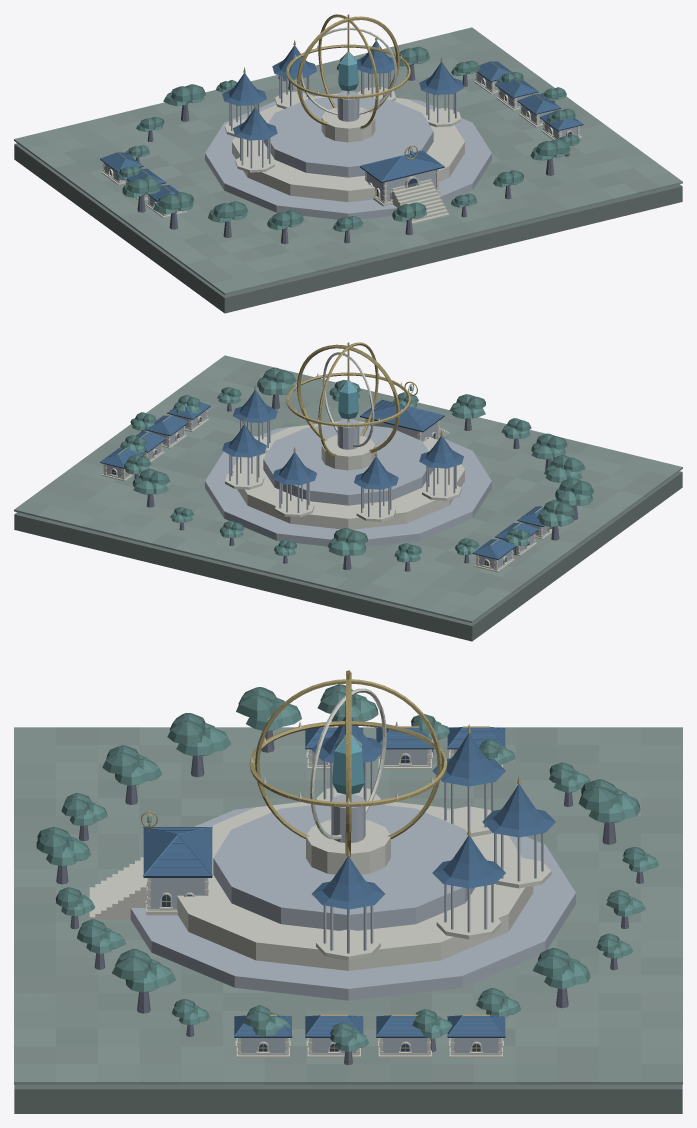
Rendered from observatory.glb.
3 views of the same model, one above another, from view 1: azimuth 30°, elevation 25°; view 2: azimuth 150°, elevation 25°; view 3: azimuth 270°, elevation 25° (orthographic). The views are drawn at different scales.
Visible parts, largest first — view 1: site, stairs, landscape, orrery, archive-roof, archive, landscape-roof; view 2: site, stairs, landscape, orrery, archive-roof, archive, landscape-roof; view 3: site, stairs, landscape, archive-roof, orrery, archive, landscape-roof.
Boxes of the visible parts, bbox=[...] form: site: bbox=[14, 27, 682, 313]; stairs: bbox=[205, 93, 491, 224]; landscape: bbox=[101, 46, 581, 244]; orrery: bbox=[286, 14, 410, 142]; archive-roof: bbox=[222, 38, 463, 182]; archive: bbox=[225, 71, 461, 206]; landscape-roof: bbox=[100, 61, 583, 201]; site: bbox=[14, 355, 682, 641]; stairs: bbox=[205, 421, 491, 546]; landscape: bbox=[101, 367, 593, 572]; orrery: bbox=[286, 342, 410, 470]; archive-roof: bbox=[222, 384, 463, 489]; archive: bbox=[225, 418, 461, 521]; landscape-roof: bbox=[100, 401, 544, 559]; site: bbox=[14, 727, 682, 1113]; stairs: bbox=[89, 802, 575, 1000]; landscape: bbox=[36, 684, 658, 1064]; archive-roof: bbox=[143, 717, 555, 909]; orrery: bbox=[249, 670, 447, 874]; archive: bbox=[145, 761, 551, 960]; landscape-roof: bbox=[234, 726, 505, 1037].
Size of the model in its own units: 59.01 by 20.4 by 47.06.
